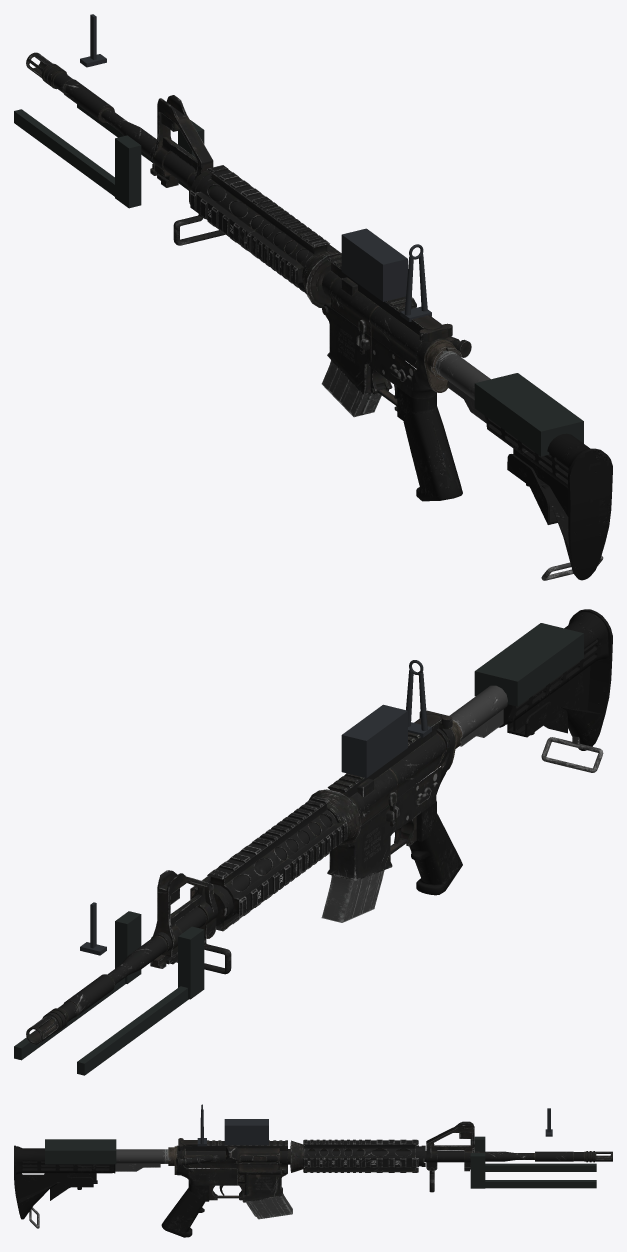
The picture shows the model from 3 angles, top to bottom: view 1: azimuth 30°, elevation 25°; view 2: azimuth 150°, elevation 25°; view 3: azimuth 270°, elevation 25°; orthographic projection. The views are drawn at different scales.
Visible parts, largest first — view 1: body, mag, rearsight; view 2: body, mag, rearsight; view 3: body, mag, boltCarrier, rearsight.
Part boxes in pixels (bbox=[...]): body: bbox=[14, 14, 612, 580]; mag: bbox=[321, 360, 381, 417]; rearsight: bbox=[400, 244, 431, 321]; body: bbox=[14, 609, 612, 1075]; mag: bbox=[321, 845, 384, 922]; rearsight: bbox=[406, 660, 431, 737]; body: bbox=[14, 1108, 612, 1237]; mag: bbox=[246, 1193, 292, 1219]; boltCarrier: bbox=[239, 1155, 277, 1161]; rearsight: bbox=[197, 1104, 206, 1146].
Bounding box in the file's own units: 0.079 × 0.2416 × 1.01.
Materials: 5 (3 with a texture image).
